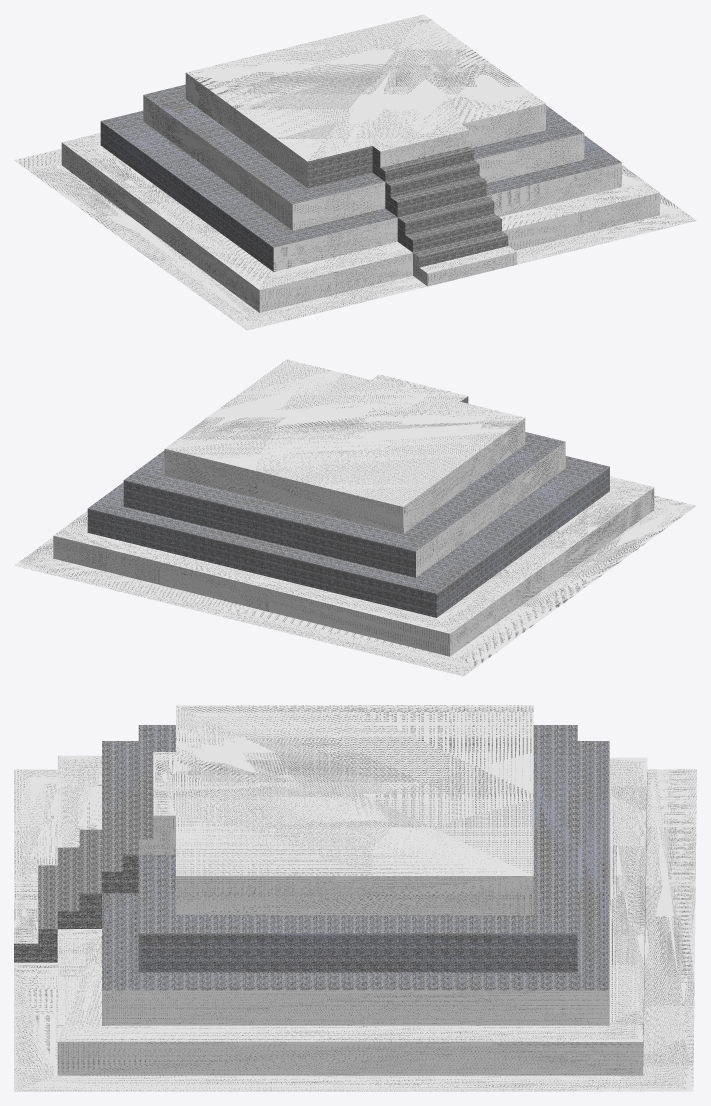
Rendered from c12dbff8-4675-4a77-9490-3ec995175129.fbx.
3 views of the same model, one above another, from view 1: azimuth 30°, elevation 25°; view 2: azimuth 150°, elevation 25°; view 3: azimuth 270°, elevation 25° (orthographic). The views are drawn at different scales.
Parts seen in each view (by area): view 1: Model; view 2: Model; view 3: Model.
Part boxes in pixels (left/top/right/bottom): Model: left=14, top=14, right=696, bottom=330; Model: left=14, top=359, right=696, bottom=676; Model: left=14, top=705, right=696, bottom=1091.
Size of the model in its own units: 11468 by 2440 by 10277.
